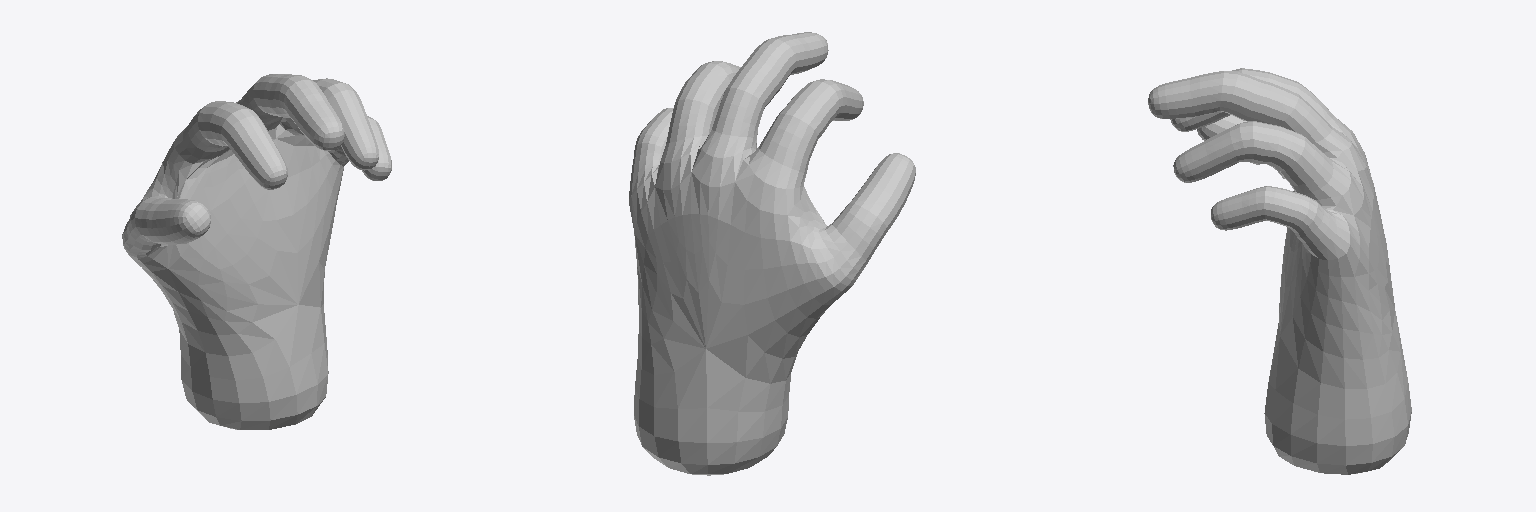
Rendered from handanimatsion32.obj.
The picture shows the model from 3 angles: view 1: azimuth 30°, elevation 25°; view 2: azimuth 150°, elevation 25°; view 3: azimuth 270°, elevation 25°; orthographic projection.
Visible parts, largest first — view 1: Cube; view 2: Cube; view 3: Cube.
Part boxes in pixels (left/top/right/bottom): Cube: left=122, top=74, right=391, bottom=429; Cube: left=629, top=32, right=915, bottom=475; Cube: left=1148, top=68, right=1411, bottom=474.
Bounding box in the file's own units: 3.3 × 5.07 × 3.16.